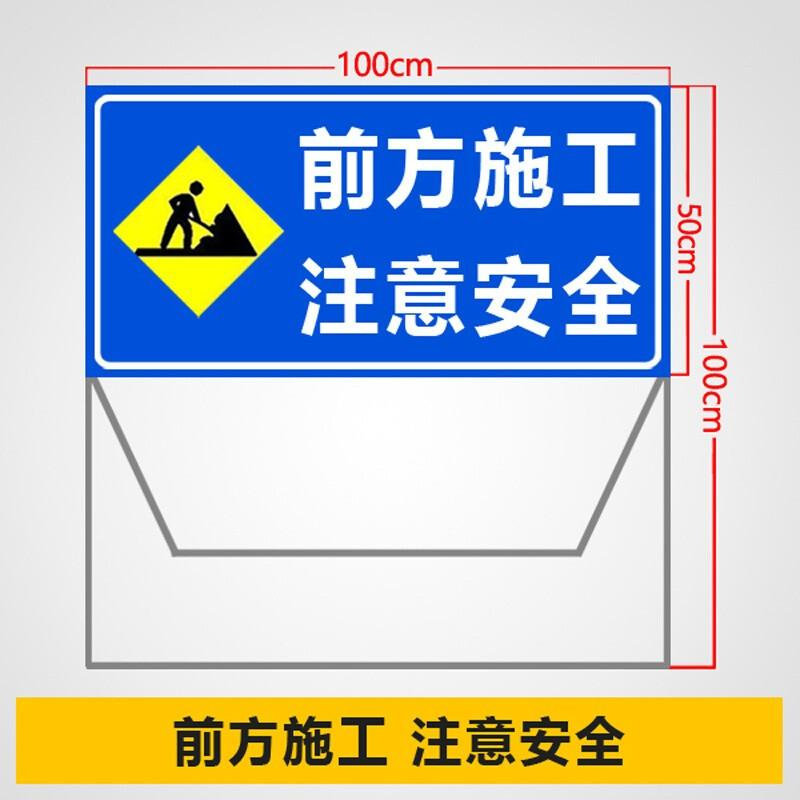sign: (87, 89, 668, 378)
